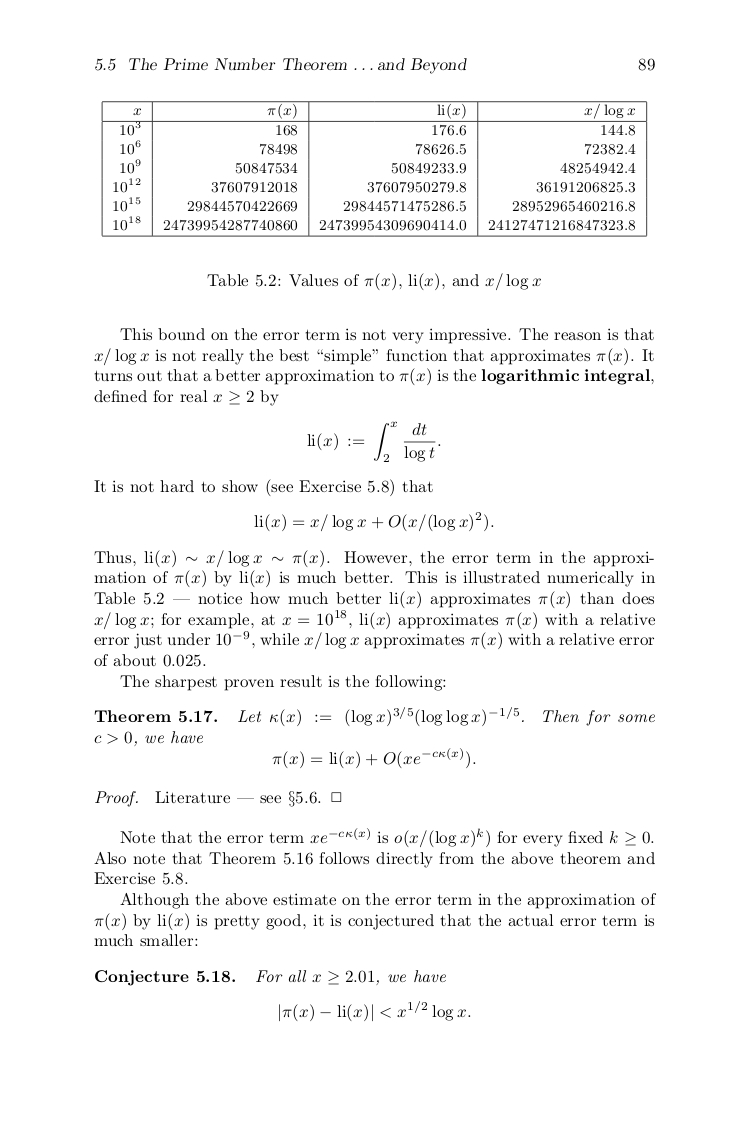Table: (101, 101, 647, 236)
formula: (307, 420, 440, 462), (254, 511, 493, 532), (272, 747, 475, 769), (279, 1000, 470, 1022)
